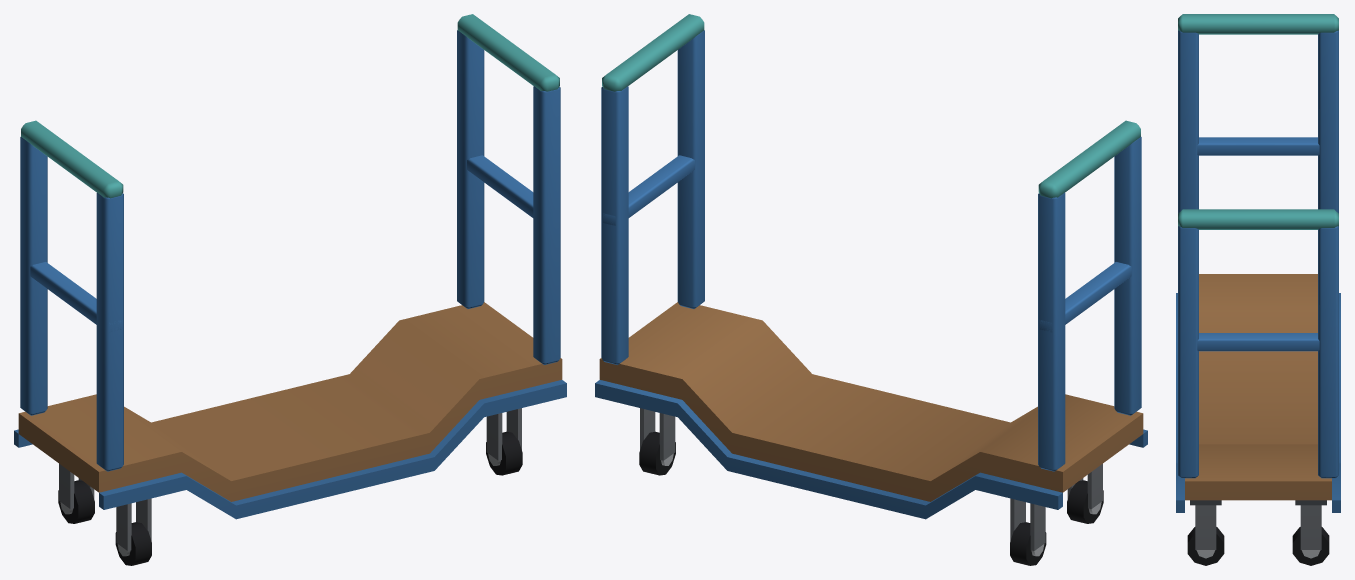
The model's file is UBoat_Cart_01.glb.
The picture shows the model from 3 angles, left to right: view 1: azimuth 30°, elevation 25°; view 2: azimuth 150°, elevation 25°; view 3: azimuth 270°, elevation 25°; orthographic projection. The views are drawn at different scales.
Visible parts, largest first — view 1: SM_UBoat_Cart_01; view 2: SM_UBoat_Cart_01; view 3: SM_UBoat_Cart_01.
Part boxes in pixels (x1,y1,x2,y2): SM_UBoat_Cart_01: (14,14,566,565); SM_UBoat_Cart_01: (595,14,1147,565); SM_UBoat_Cart_01: (1176,14,1340,565).
Size of the model in its own units: 1.4 by 1.15 by 0.47.
1 material, 1 textured.
